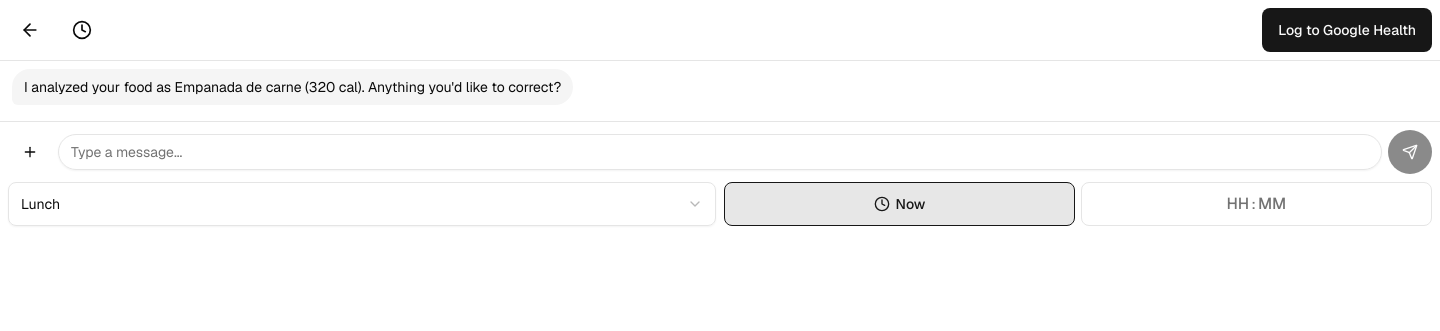
Test: FoodChat › assistant response is displayed in message list
Type "Make it 2" into the field with placeholder "Type a message..." at (720, 152), box 58,134 -> 1382,170
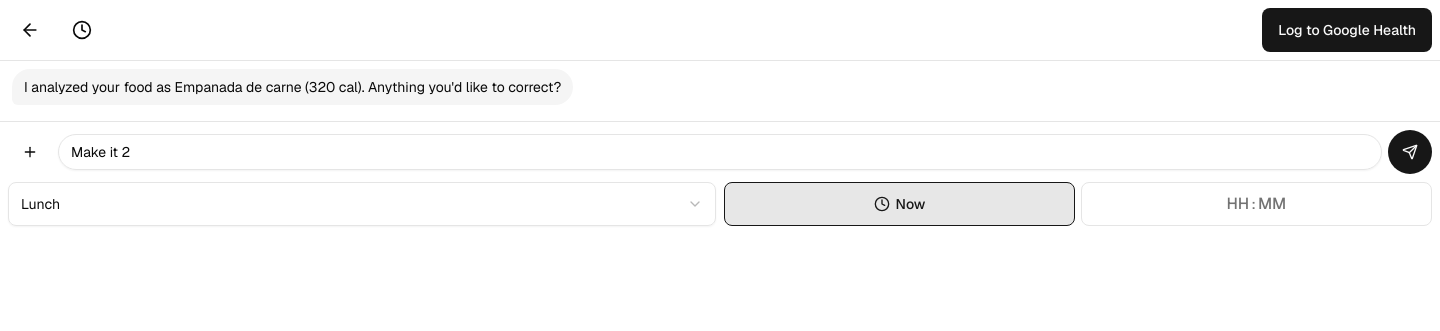
Click the button named "send" at (1410, 152), box 1388,130 -> 1432,174
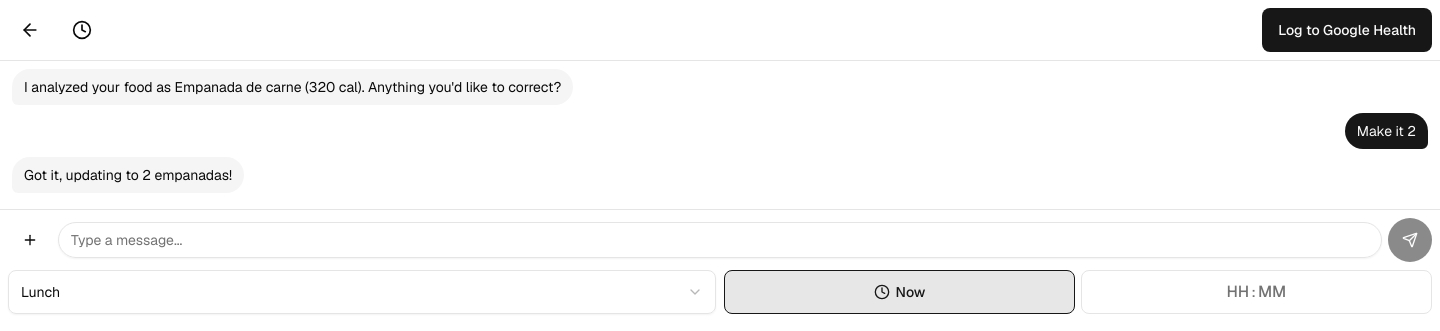
Expected: the text "Got it, updating to 2 empanadas!" is shown, 24,165 -> 232,185
